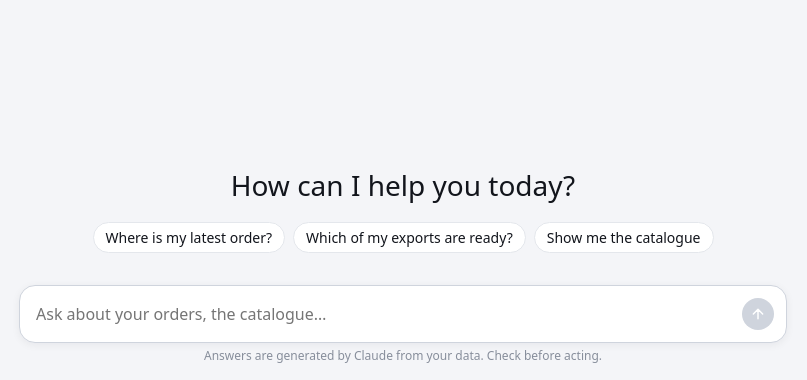
Test: AssistantPage › tells the admin to wait when the hourly limit is reached
The image size is (807, 380).
Step 1. Type "Why?" into the text box named "Your question" → (385, 314), box x1=36 y1=298 x2=734 y2=330
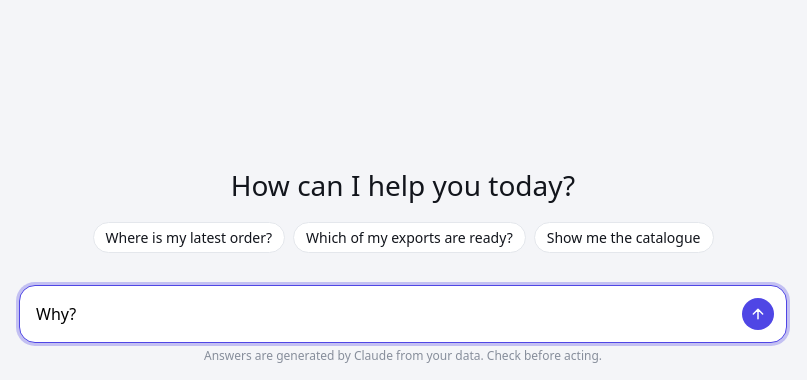
Step 2. Click the button named "Send" → (758, 314), box x1=742 y1=298 x2=774 y2=330
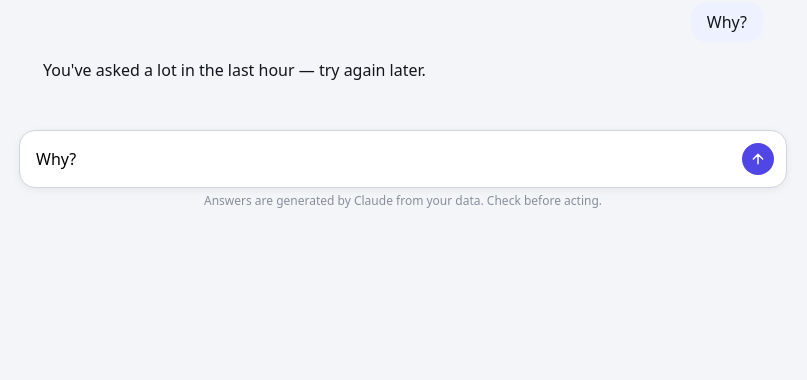
Now the text "You've asked a lot in the last hour — try again later." is shown, box x1=43 y1=59 x2=426 y2=81
